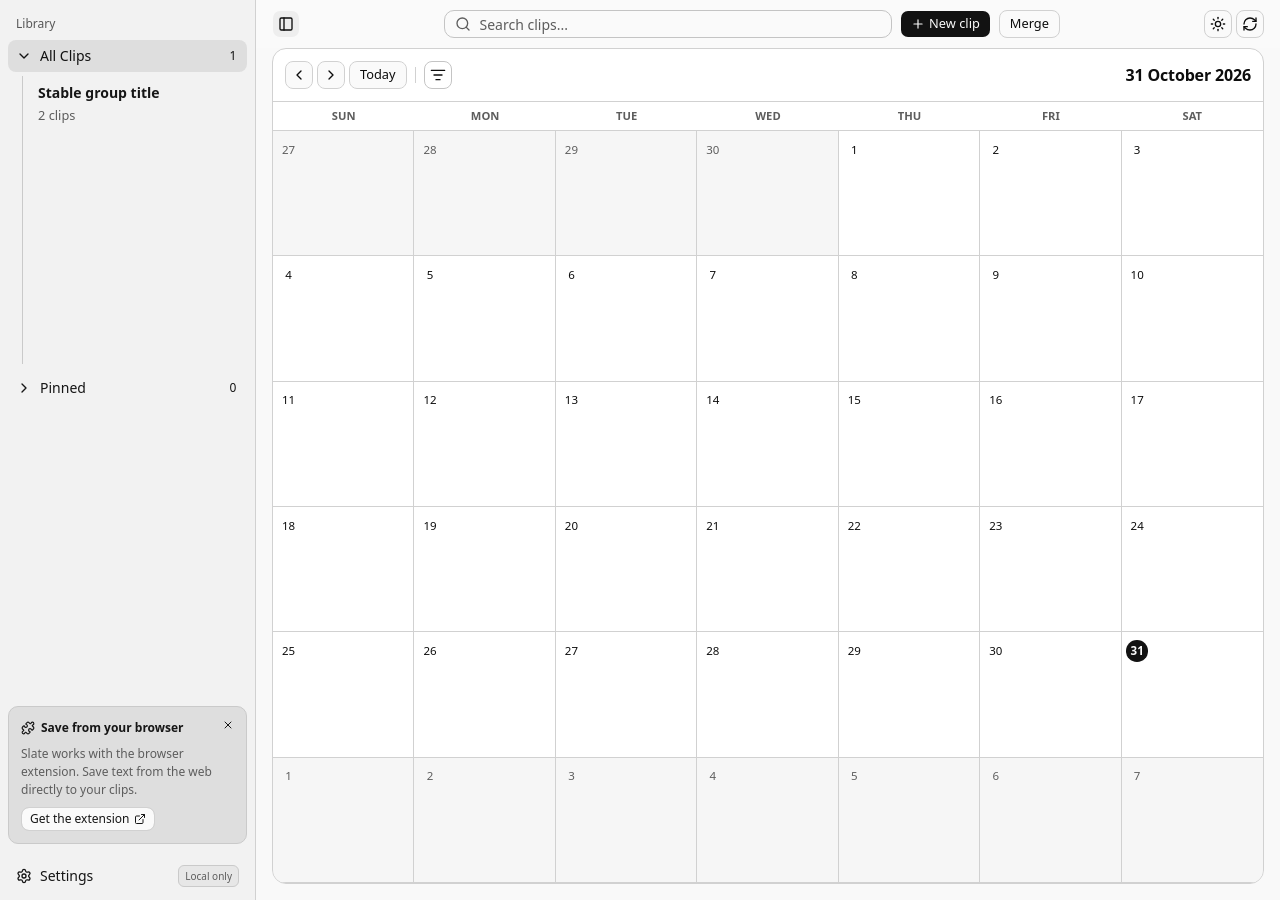
Test case: Edit Second member waits for the shared member save and runs at most once
Click the button "Stable group title 2 clips".
click(138, 104)  # box [29, 76, 247, 132]
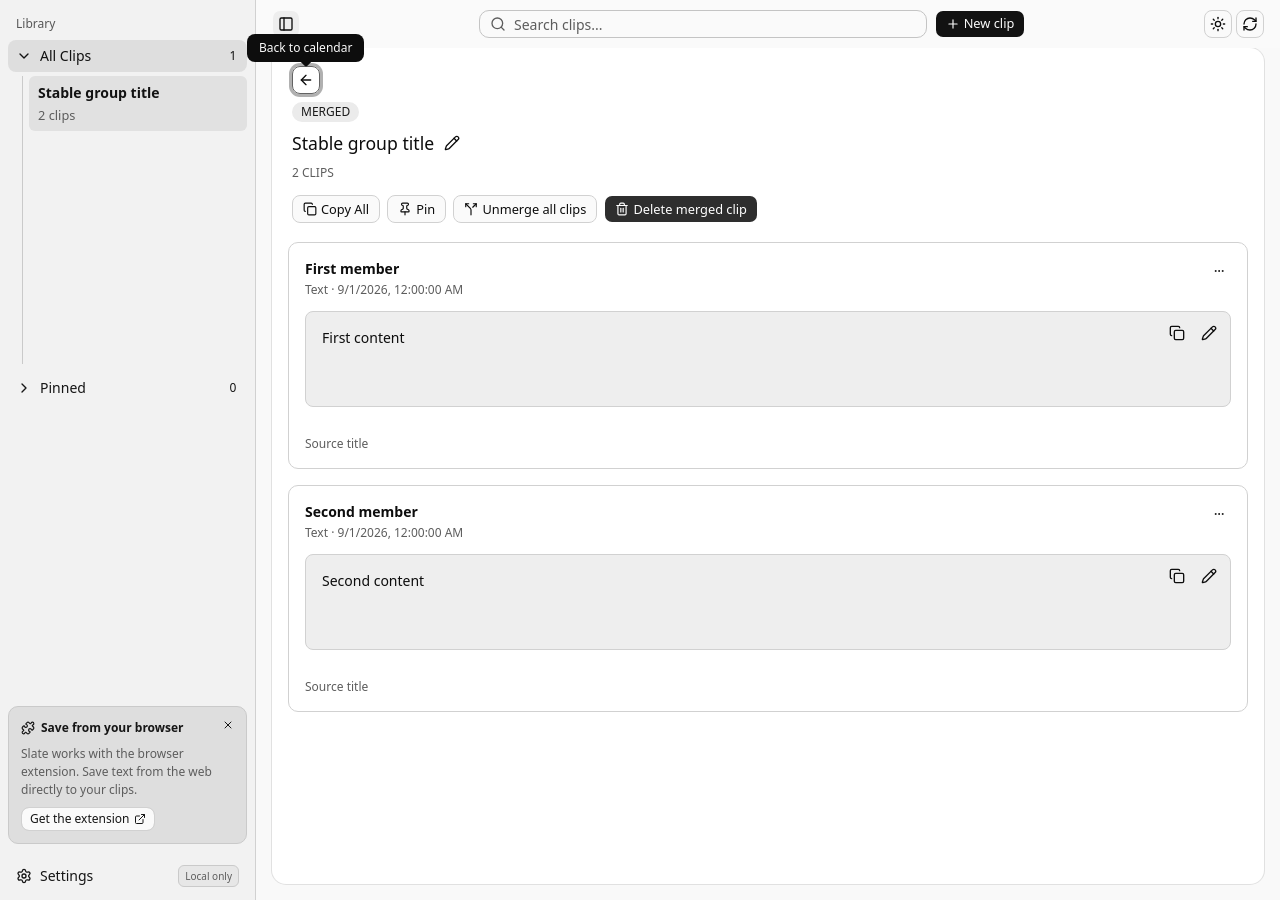
Expected: the heading "Stable group title" is shown, [292, 131, 434, 155]
Click the button named "Edit content: First member".
click(1209, 333)  # box [1195, 319, 1223, 347]
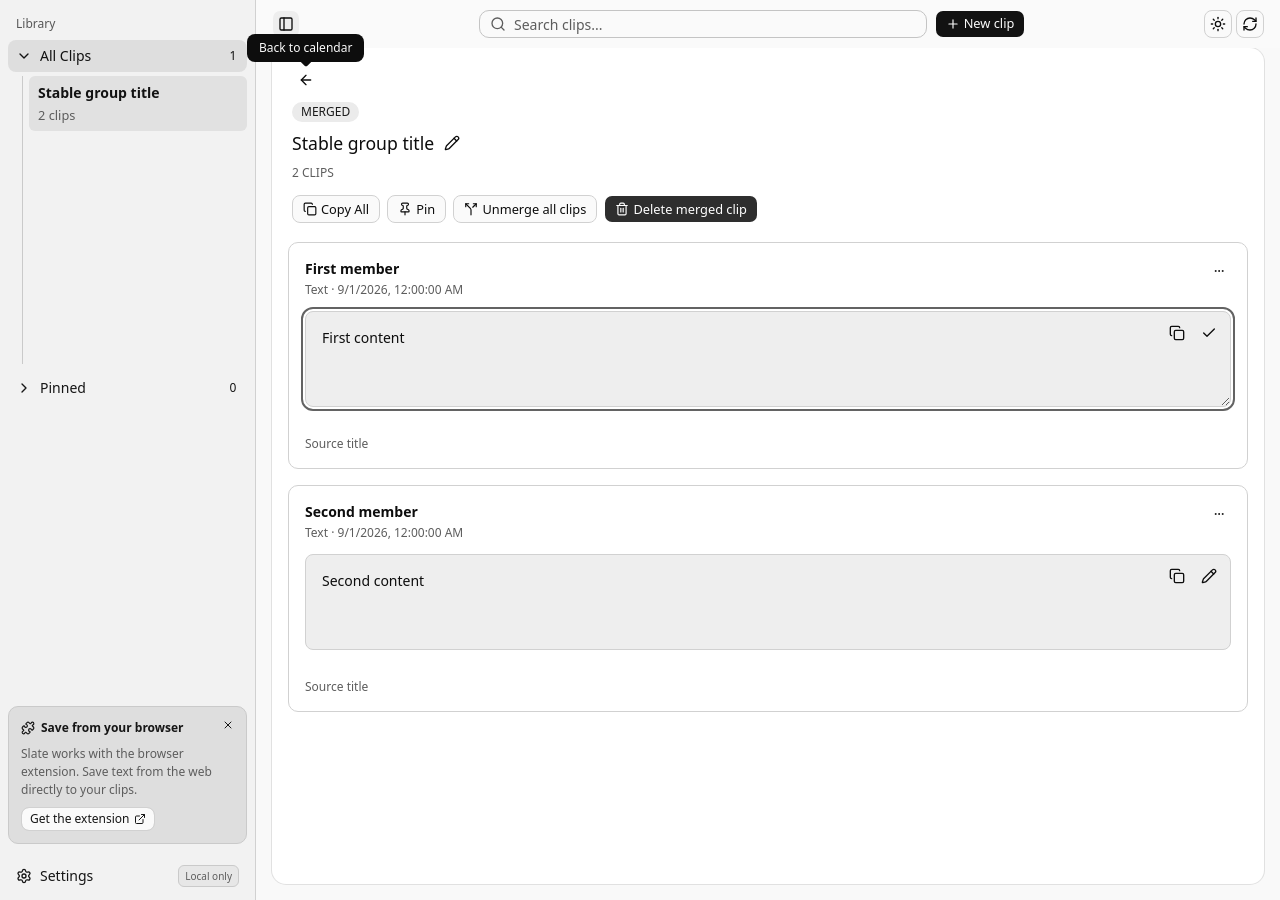
Replace the text in the text box named "Clip content: First member" with "Edited member content" at [768, 359], box [305, 311, 1231, 407]
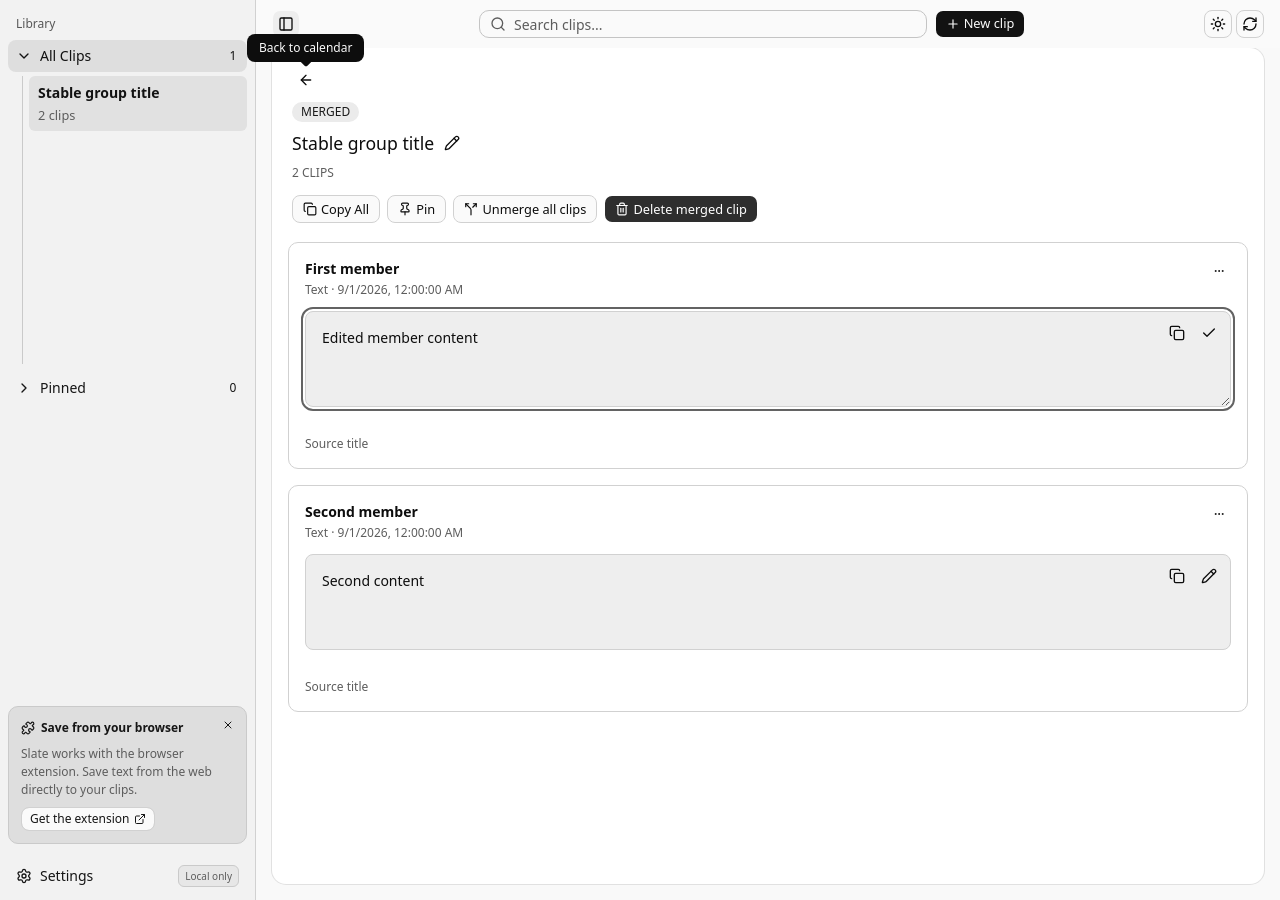
Click the button named "Actions for Second member".
click(1219, 514)  # box [1207, 502, 1231, 526]
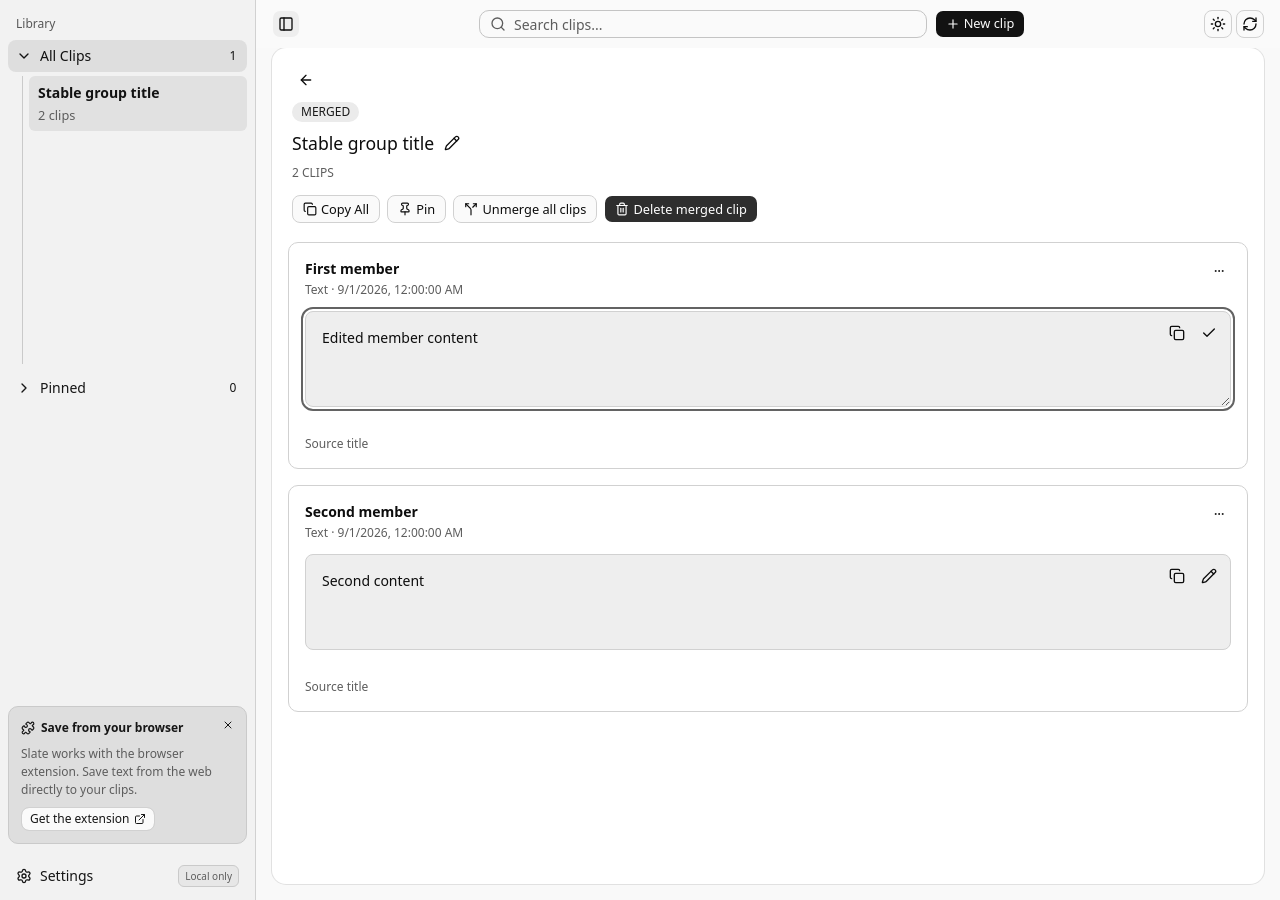
Click the button named "Actions for Second member".
click(1219, 514)  # box [1207, 502, 1231, 526]
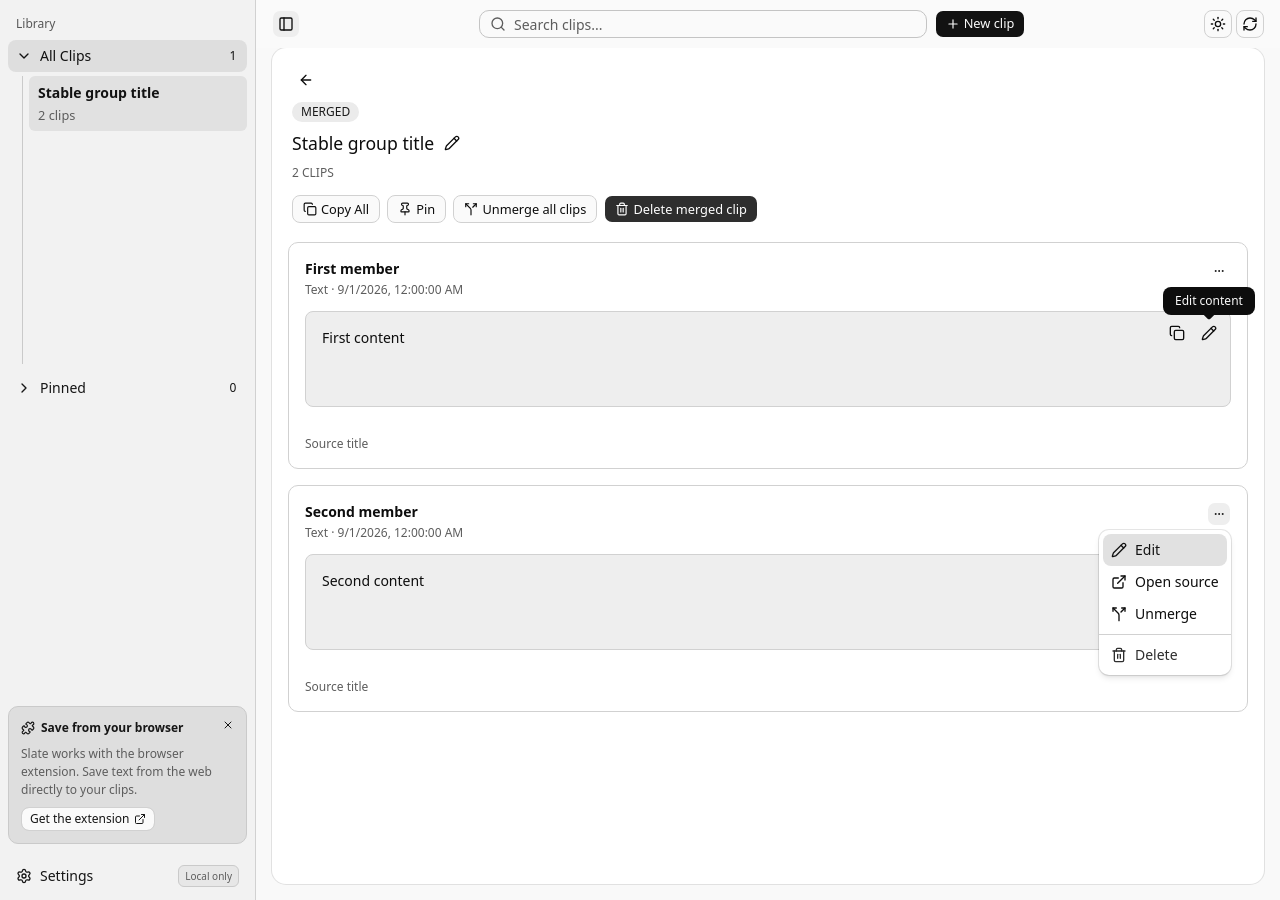
Click the menu item "Edit".
click(1165, 550)  # box [1103, 534, 1227, 566]
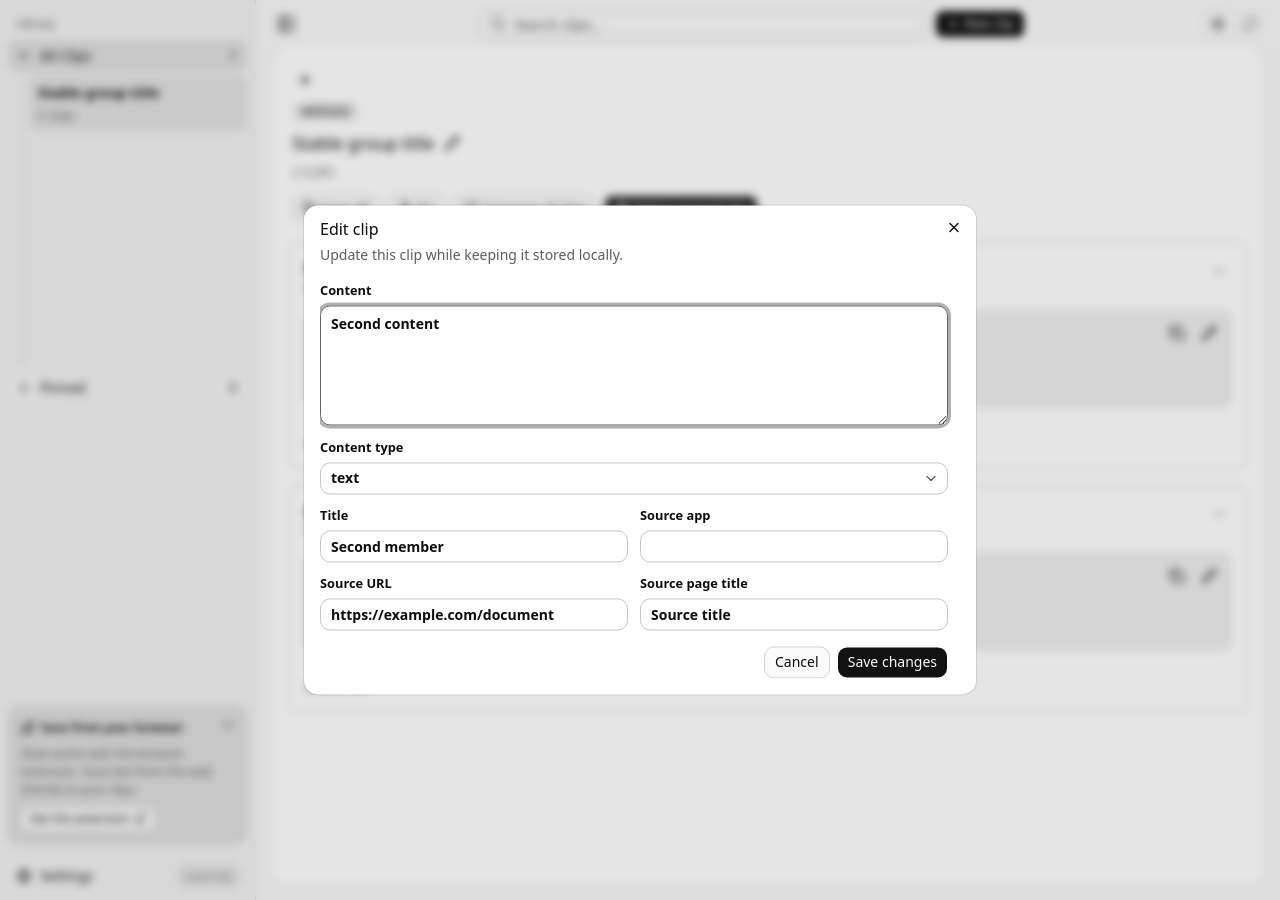
Expected: the dialog "Edit clip" is shown, [304, 206, 976, 695]
